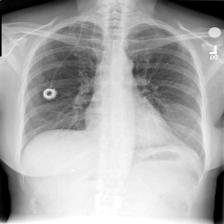normal: (18, 16, 210, 179)
